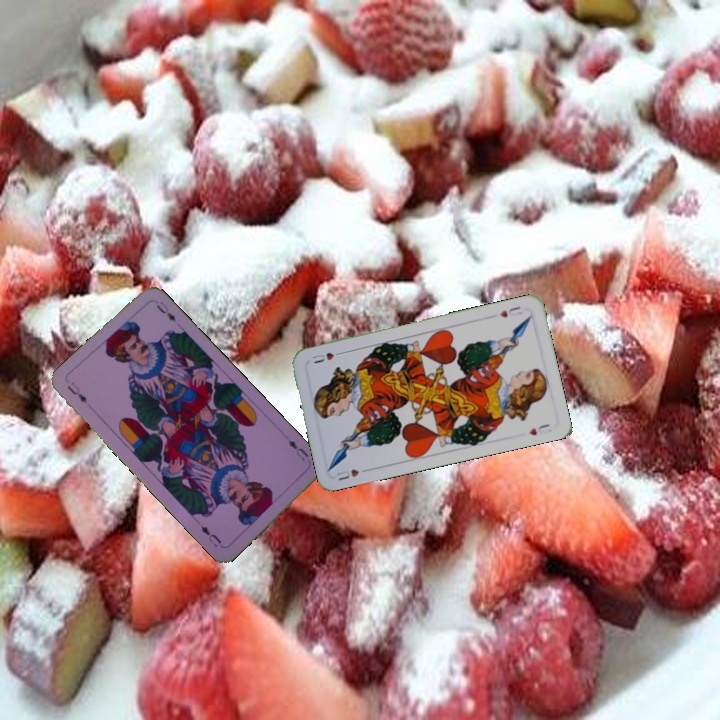EU: (284, 436, 311, 464), (63, 377, 89, 405)
HU: (332, 465, 372, 483), (495, 302, 525, 320)
